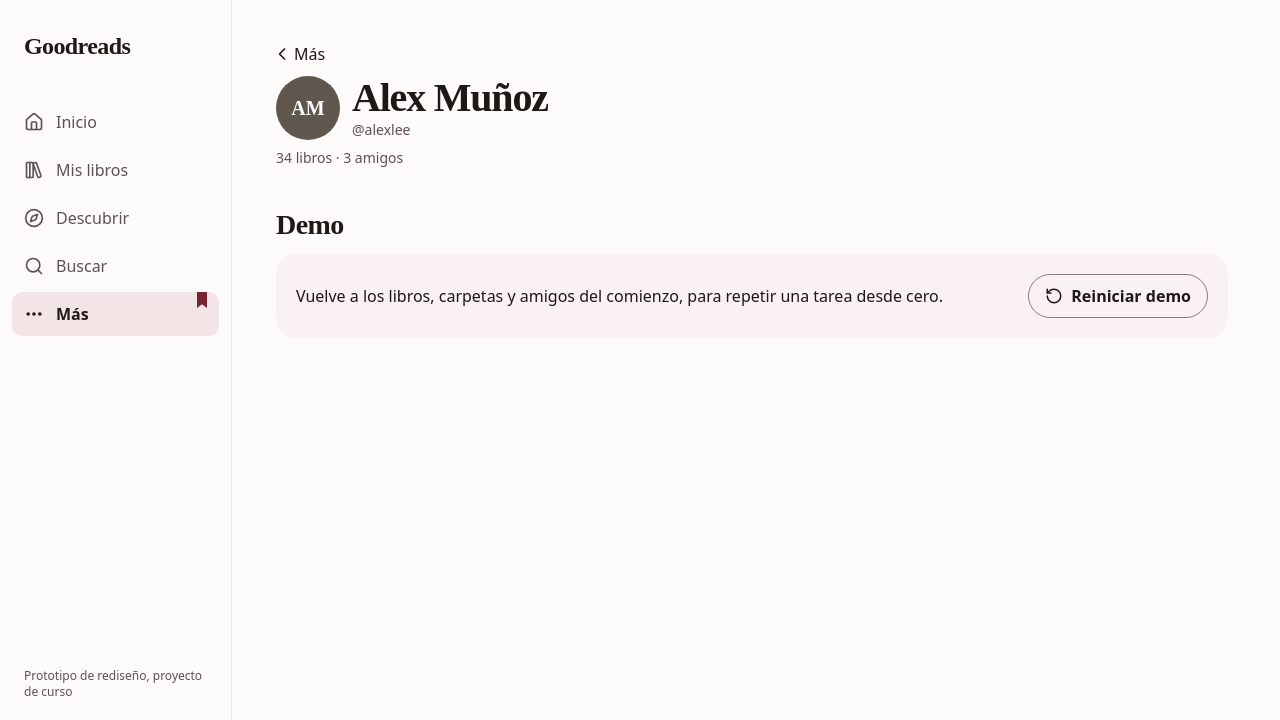
Scenario: ProfilePage › asks in the same place, taking over the block that holds the button
The width and height of the screenshot is (1280, 720).
Expected: the text "Vuelve a los libros" is shown, [296,285,943,307]
What coordinates should you click on to do the following:
click the button "Reiniciar demo"
I would click on:
 (1118, 296)
Its box is [1028,274,1208,318].
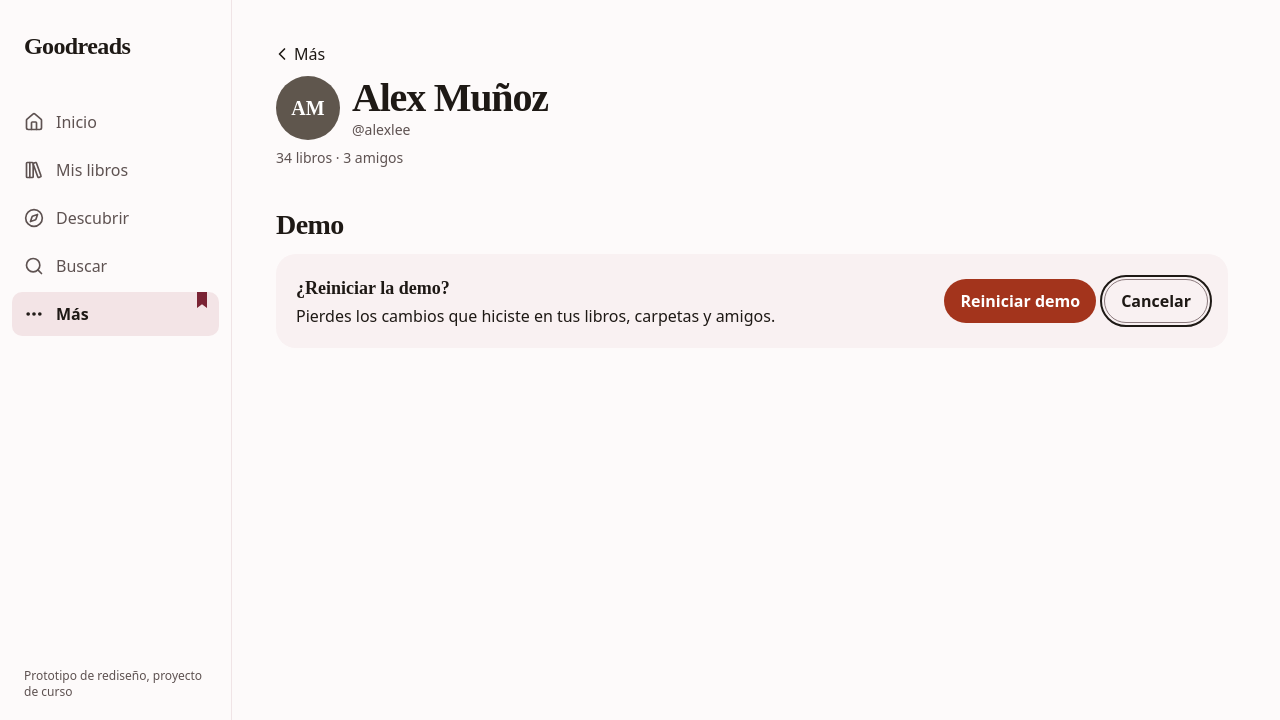
Result: the text "Vuelve a los libros" is gone
Result: the number of buttons "Reiniciar demo" is 1 at [944,279,1096,323]
